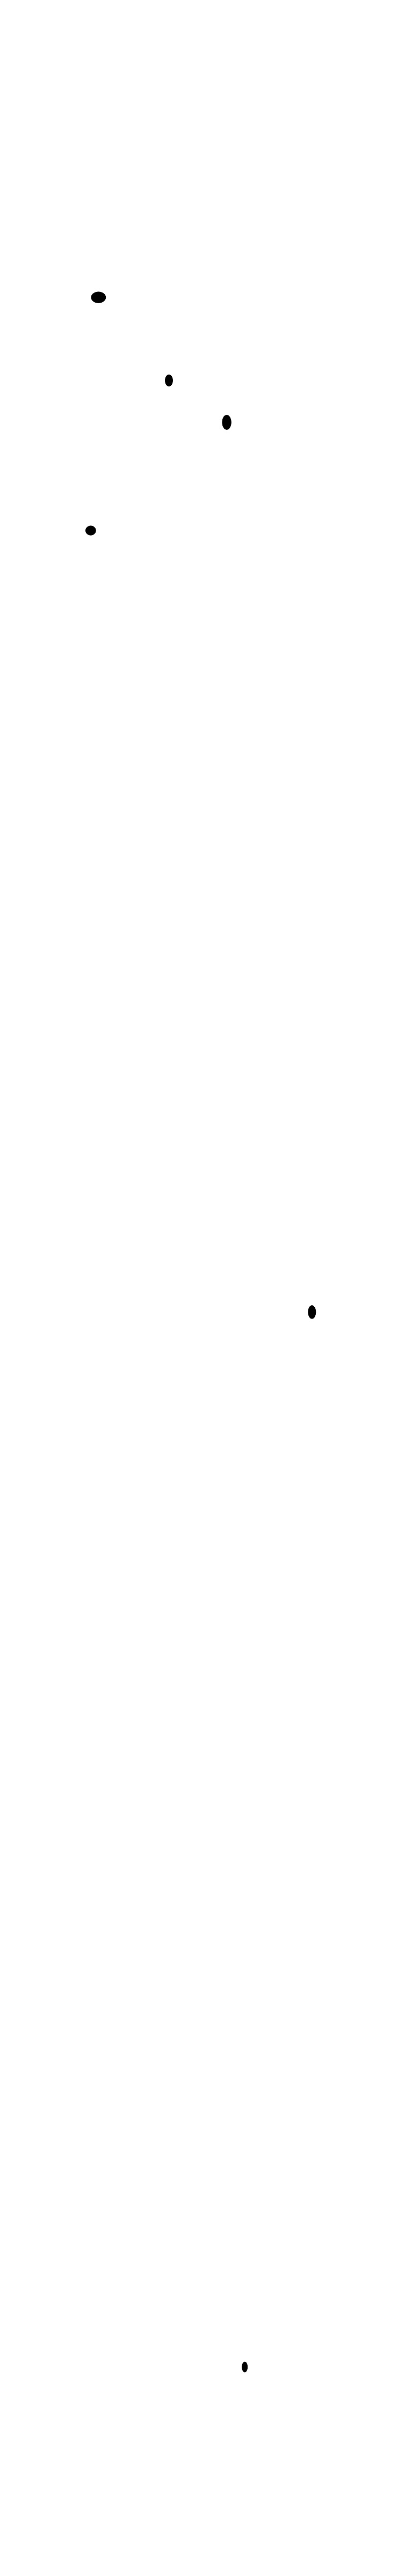ship: (87, 289, 109, 306), (221, 414, 234, 432), (306, 1303, 318, 1321), (163, 373, 176, 388), (86, 524, 97, 537), (240, 2359, 250, 2374)
